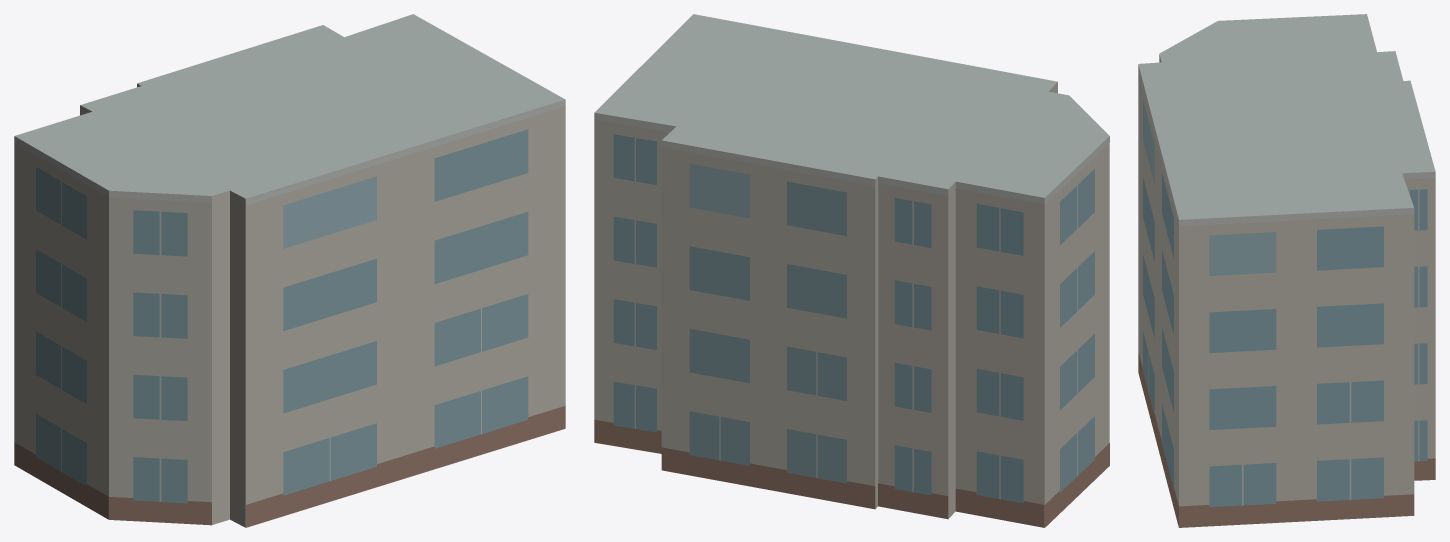
File: survey-upis-32743194.glb
3 views of the same model, side by side, from view 1: azimuth 30°, elevation 25°; view 2: azimuth 150°, elevation 25°; view 3: azimuth 270°, elevation 25° (orthographic). The views are drawn at different scales.
Visible parts, largest first — view 1: survey-upis-32743194.tmp; view 2: survey-upis-32743194.tmp; view 3: survey-upis-32743194.tmp.
Boxes of the visible parts, x1,y1,x2,y2 form: survey-upis-32743194.tmp: (14, 14, 565, 527); survey-upis-32743194.tmp: (594, 14, 1109, 527); survey-upis-32743194.tmp: (1138, 14, 1435, 527).
Size of the model in its own units: 17.07 by 11.9 by 10.42.
